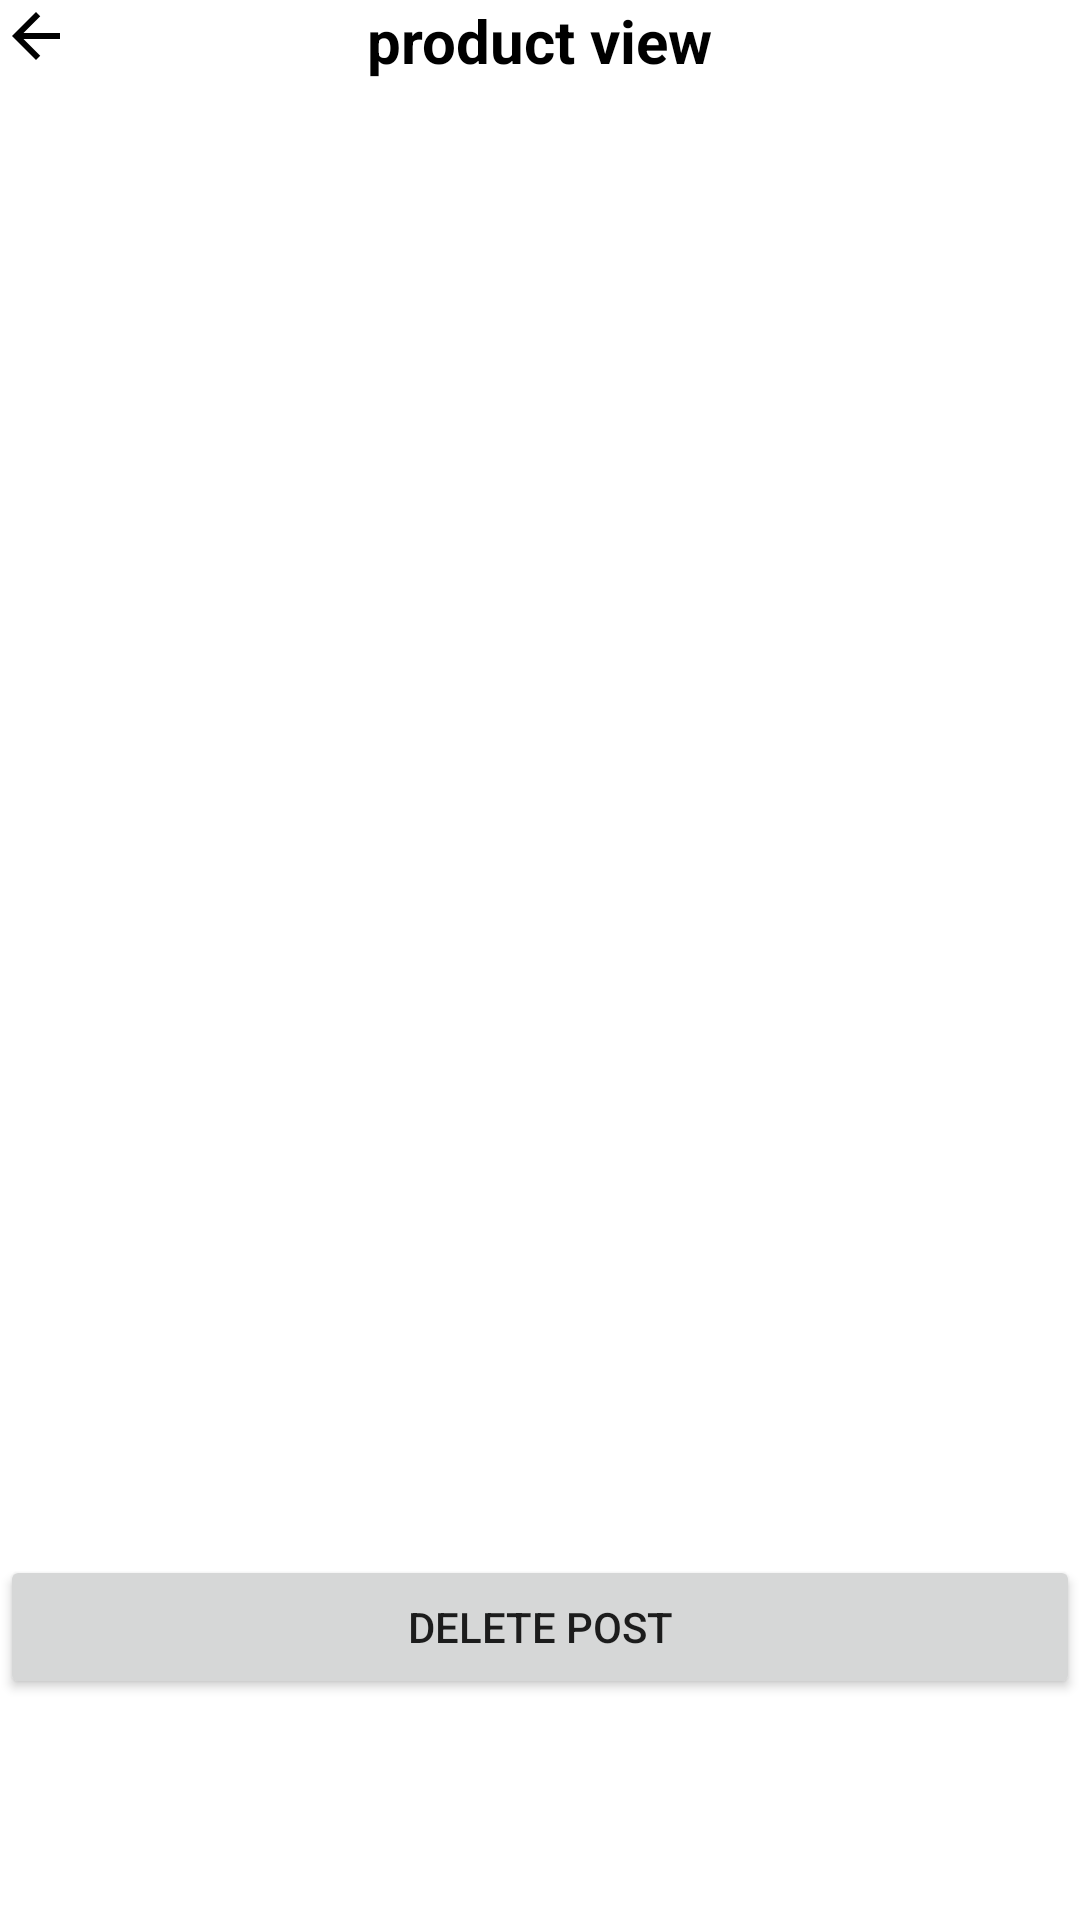

Icons on this 1080px x 1920px Android screen, each with the point to tap as (x,y):
back: (36,36)
